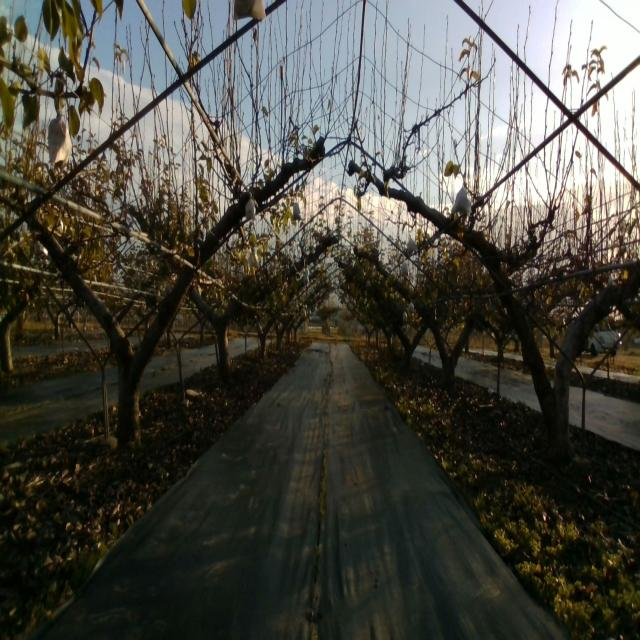pearbags: (48, 114, 72, 174), (450, 186, 472, 214), (245, 192, 257, 220), (406, 234, 418, 256), (292, 200, 302, 221)
